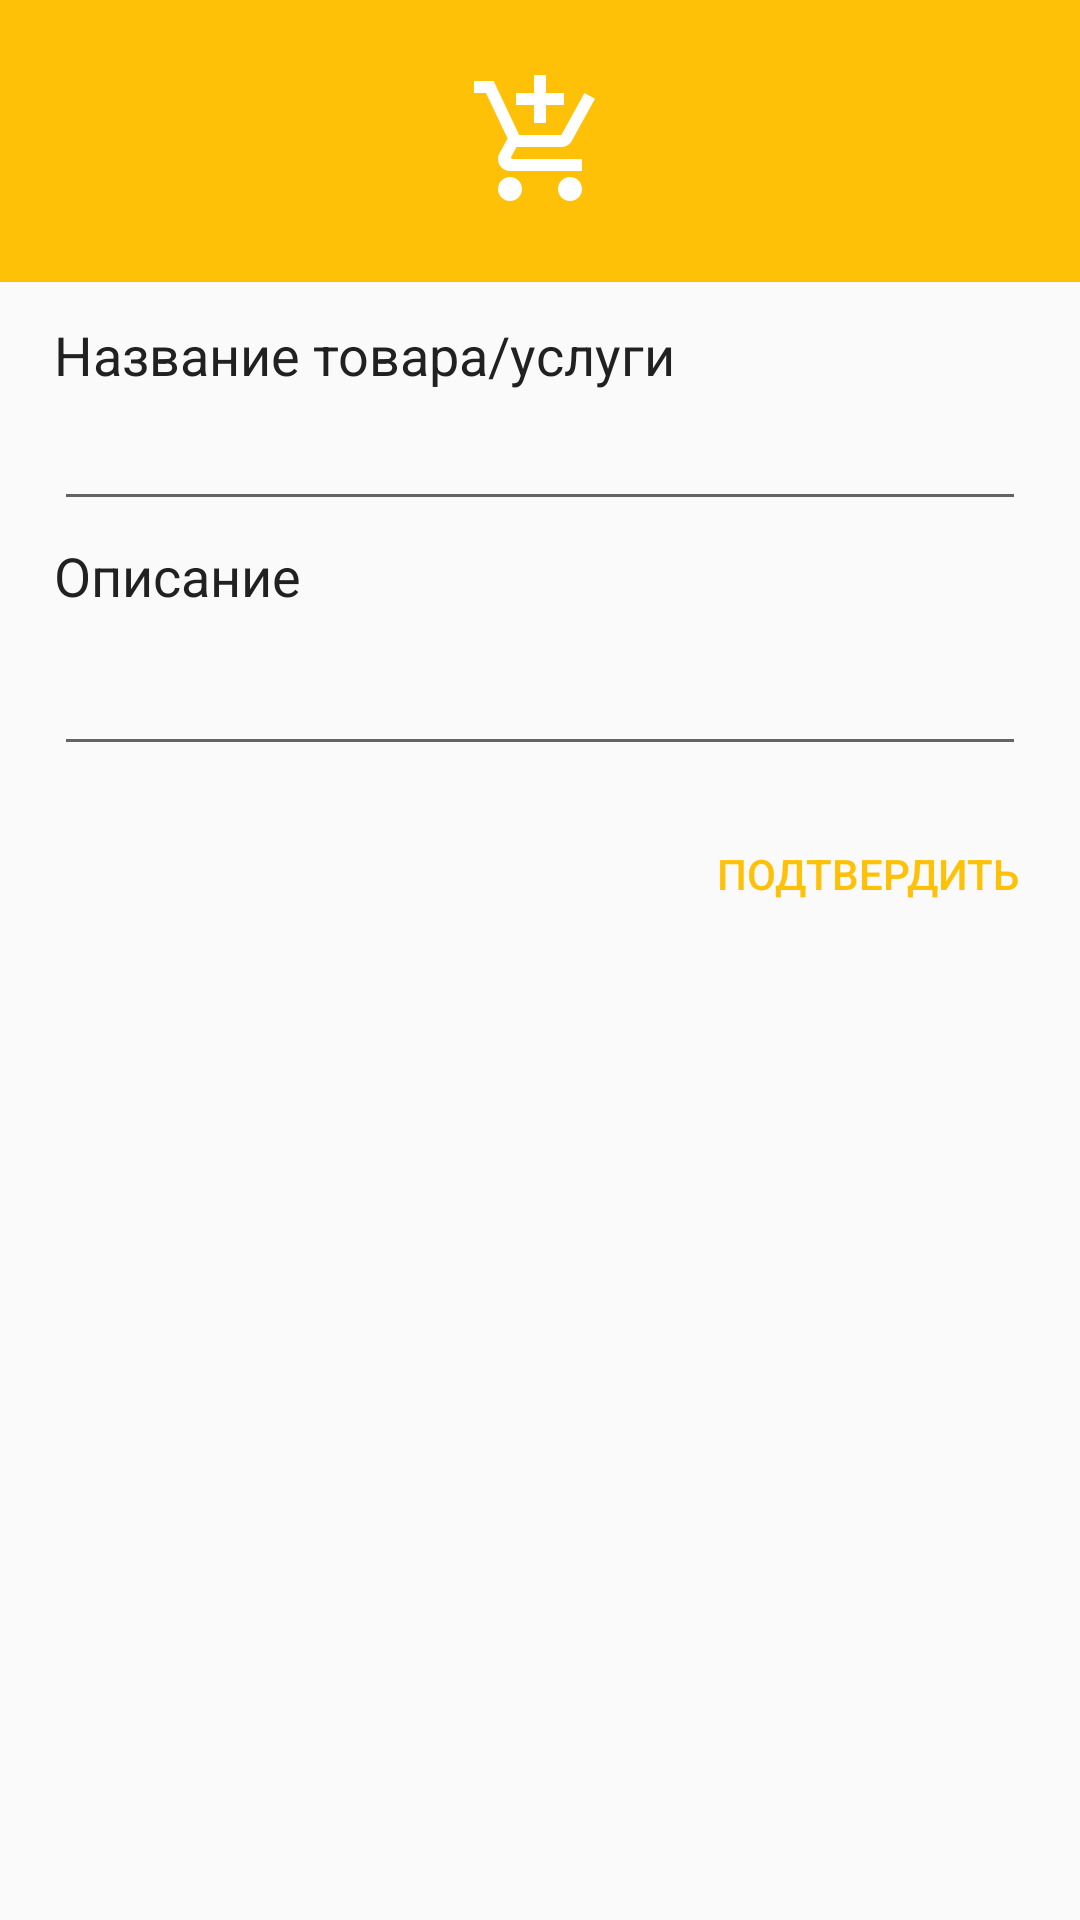

Where to tap for icons on this 1080×1920 app screen, as point (x, y):
cart plus: point (534, 138)
